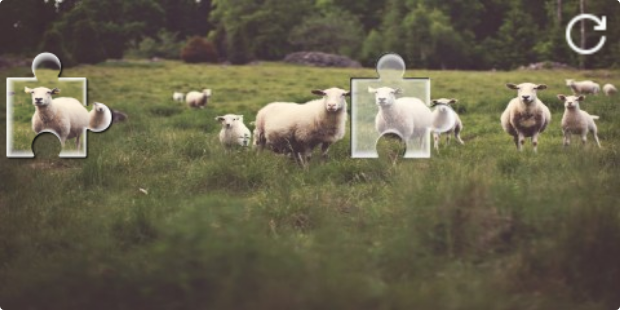target: (351, 54, 453, 158)
